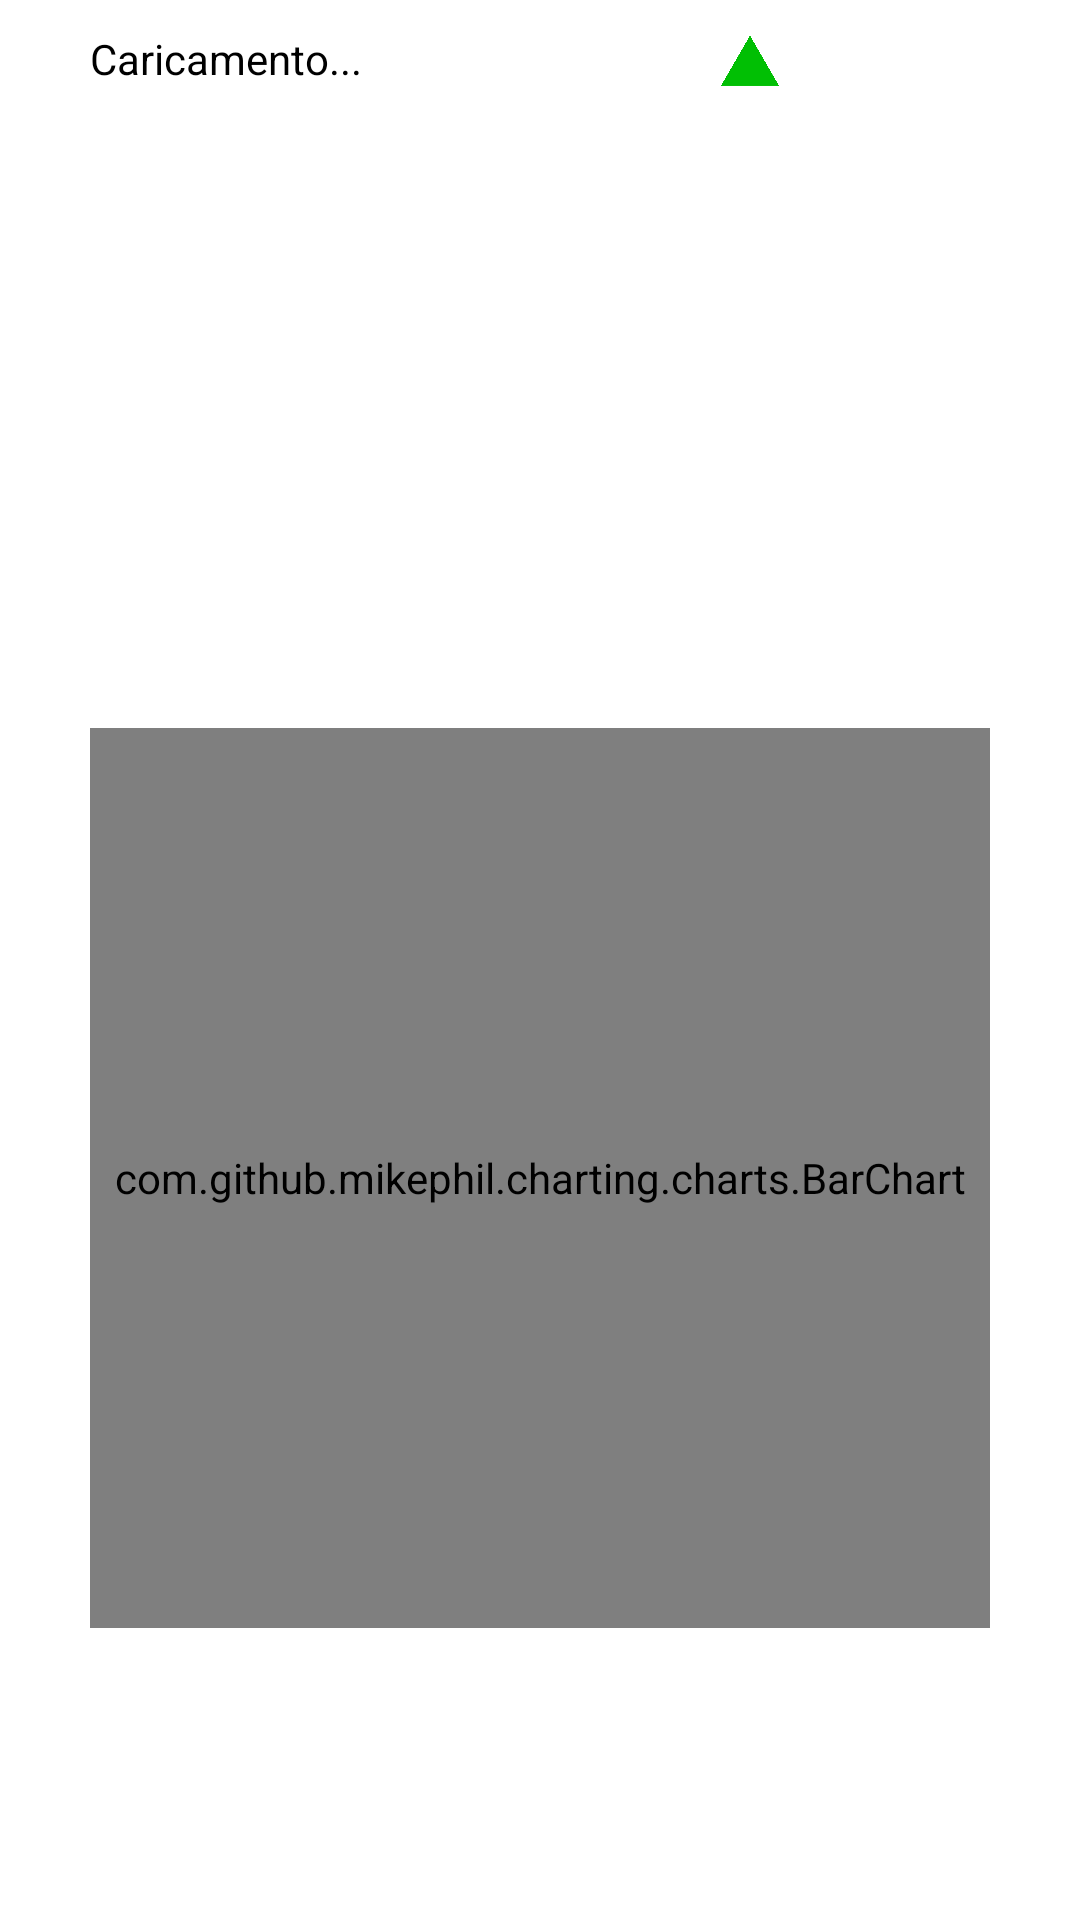

Named icons in this screenshot (1080px x 1920px) and their centers, (x,y):
triangle: (750,61)
